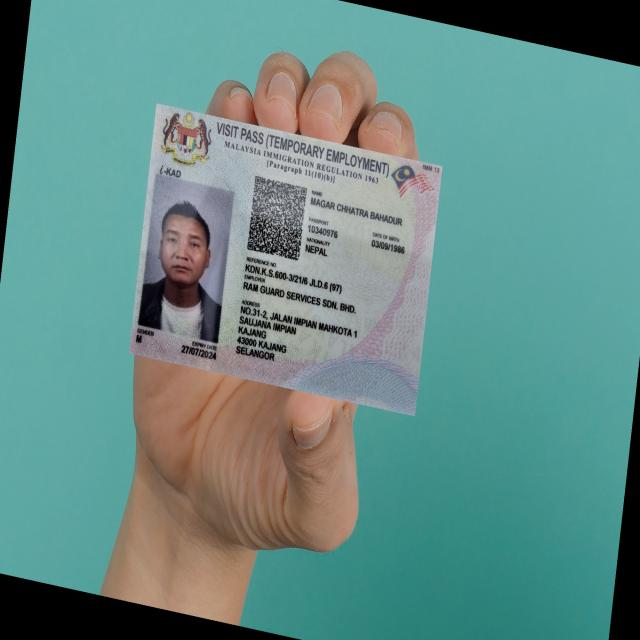ikad-temp: (129, 101, 442, 418)
